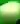white: (0, 0, 20, 24)
